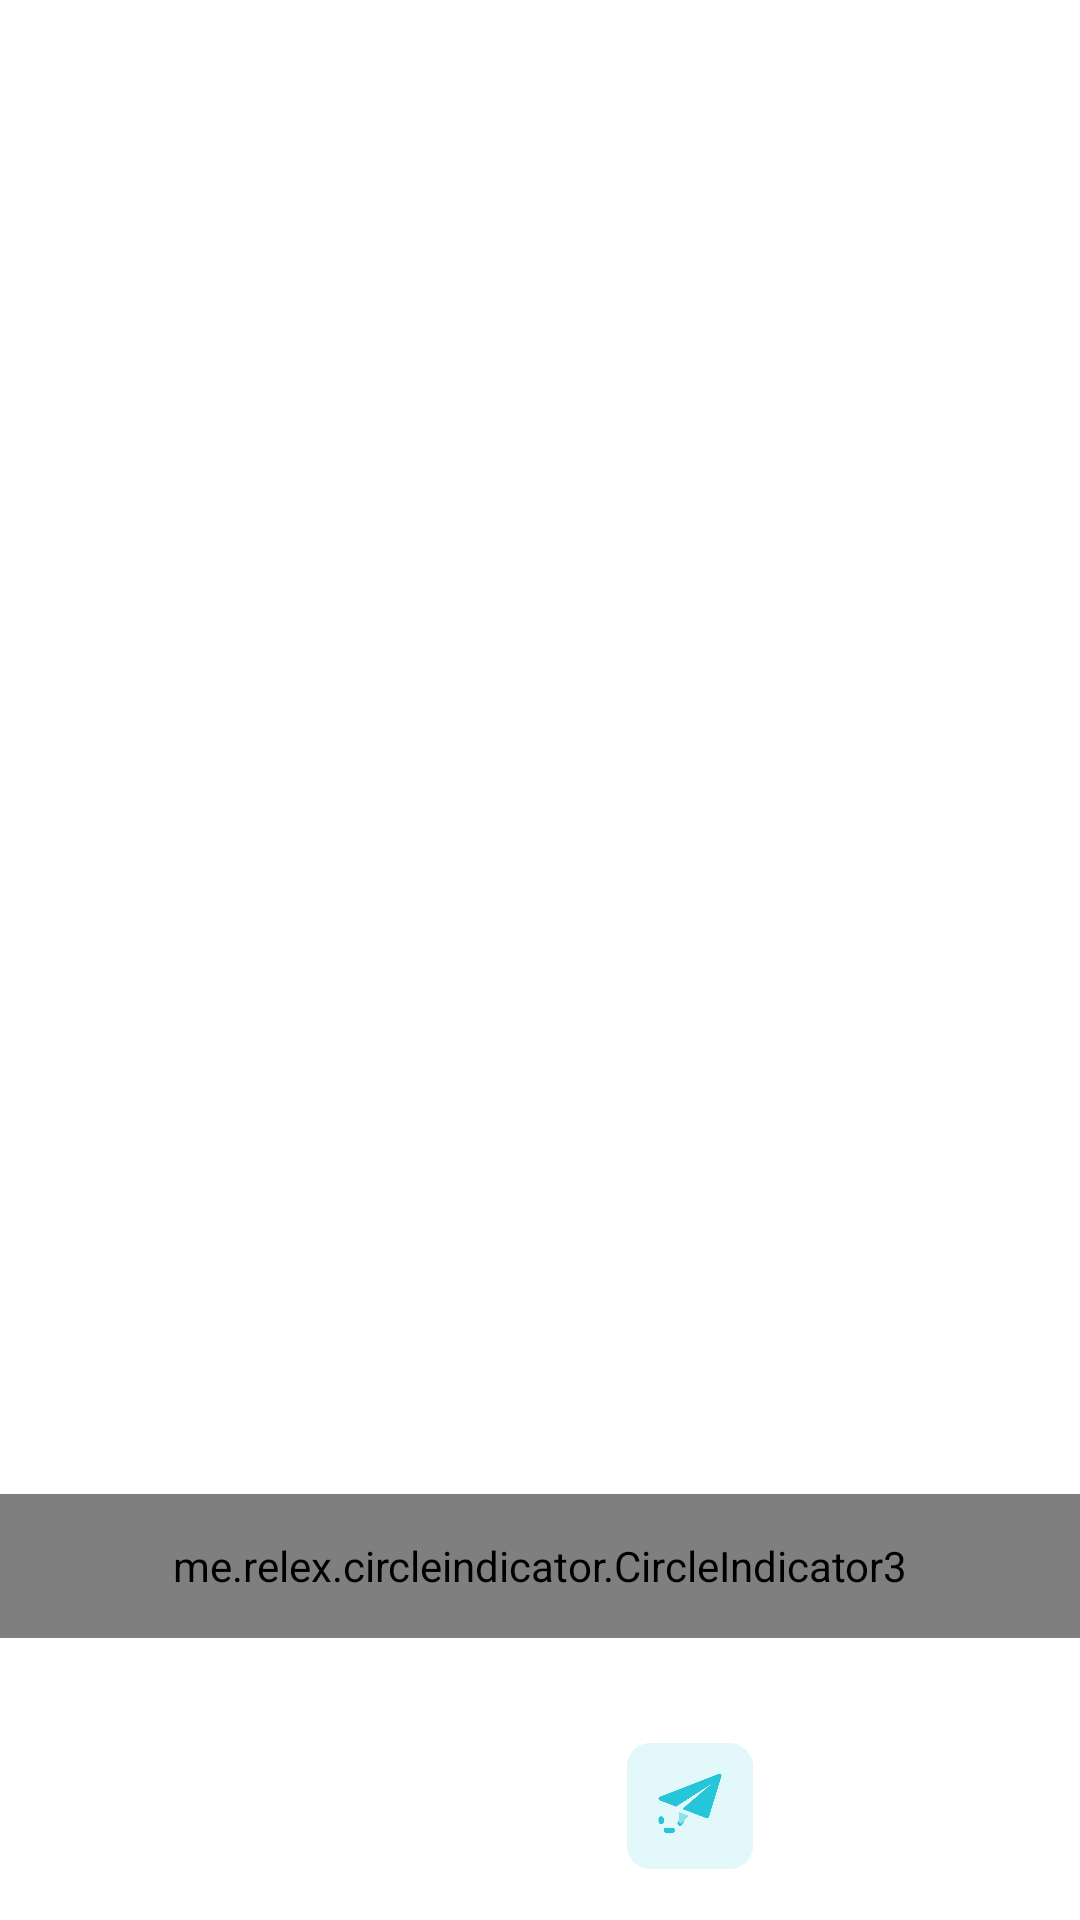

Point at icon controls on the screen. Image size 1080 x 1920, points as (x,y).
direct: (690,1806)
